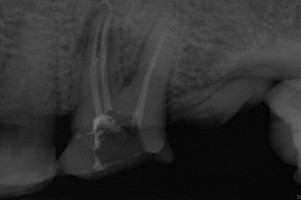Dental Caries: (72, 0, 115, 61), (119, 27, 144, 85)
